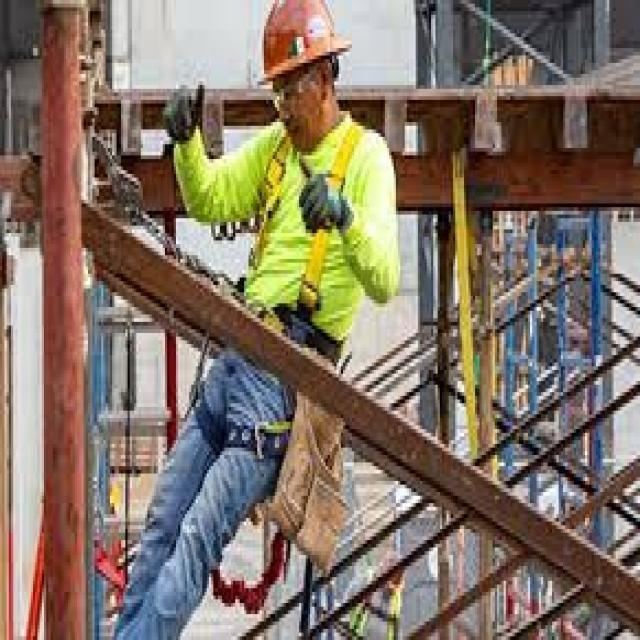Arnes_seguridad: (185, 116, 372, 466)
